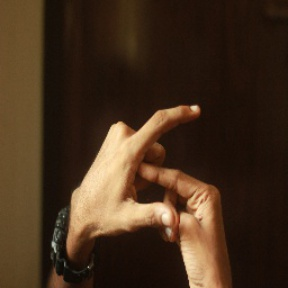E: (123, 101, 218, 236)
